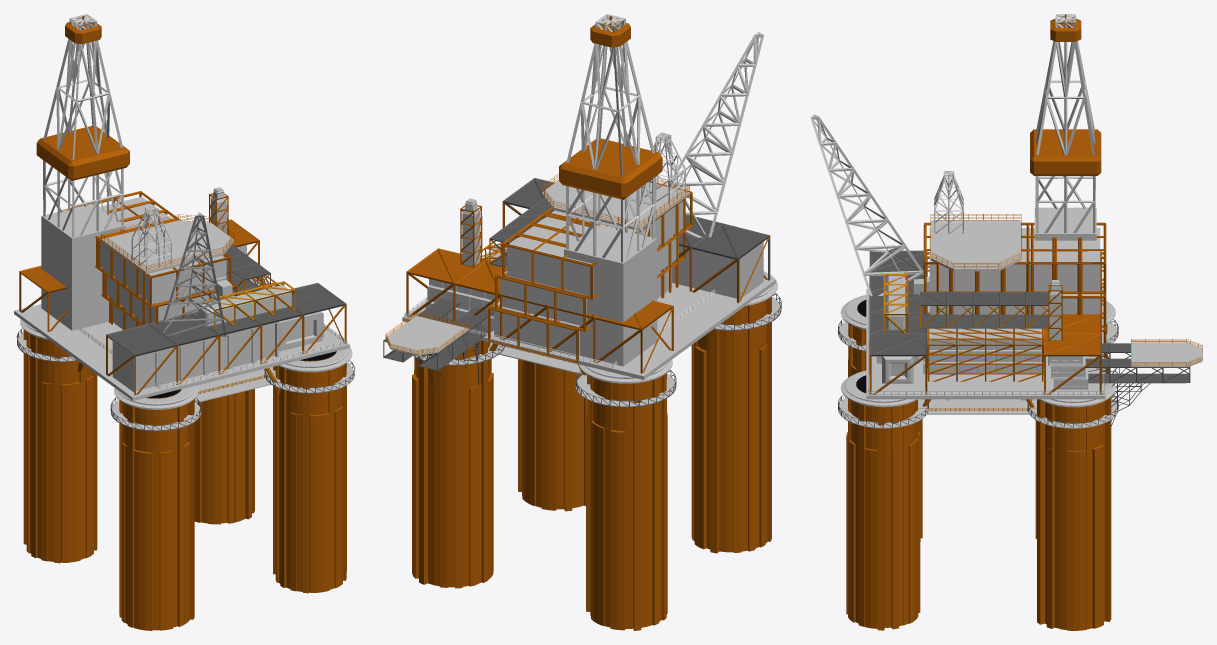
The model's file is mining.obj.
3 renders of one model, left to right at view 1: azimuth 30°, elevation 25°; view 2: azimuth 150°, elevation 25°; view 3: azimuth 270°, elevation 25°, orthographic. The views are drawn at different scales.
Parts seen in each view (by area): view 1: Object_42, Object_48, Object_45, Object_51, Object_102, Object_94, Object_100, Object_14, Object_114, Object_4, Object_112, Object_98 (+17 smaller); view 2: Object_45, Object_42, Object_51, Object_114, Object_48, Object_102, Object_100, Object_14, Object_16, Object_96, Object_54, Object_98 (+20 smaller); view 3: Object_51, Object_48, Object_114, Object_14, Object_100, Object_64, Object_112, Object_4, Object_54, Object_11, Object_96, Object_98 (+23 smaller).
Boxes of the visible parts, x1=… form: Object_42: x1=119, y1=390, x2=194, y2=630; Object_48: x1=273, y1=352, x2=346, y2=593; Object_45: x1=23, y1=329, x2=97, y2=563; Object_51: x1=194, y1=389, x2=254, y2=524; Object_102: x1=41, y1=203, x2=125, y2=330; Object_94: x1=112, y1=311, x2=323, y2=392; Object_100: x1=43, y1=14, x2=123, y2=237; Object_14: x1=14, y1=278, x2=349, y2=400; Object_114: x1=100, y1=196, x2=232, y2=329; Object_4: x1=106, y1=283, x2=345, y2=394; Object_112: x1=101, y1=220, x2=234, y2=274; Object_98: x1=36, y1=126, x2=129, y2=180; Object_45: x1=586, y1=373, x2=667, y2=630; Object_42: x1=691, y1=296, x2=771, y2=553; Object_51: x1=412, y1=340, x2=493, y2=588; Object_114: x1=494, y1=201, x2=683, y2=355; Object_48: x1=518, y1=359, x2=586, y2=511; Object_102: x1=564, y1=224, x2=657, y2=366; Object_100: x1=566, y1=14, x2=655, y2=262; Object_14: x1=402, y1=246, x2=775, y2=379; Object_16: x1=406, y1=248, x2=673, y2=373; Object_96: x1=488, y1=182, x2=692, y2=363; Object_54: x1=668, y1=32, x2=764, y2=237; Object_98: x1=559, y1=138, x2=662, y2=199; Object_51: x1=1037, y1=397, x2=1111, y2=630; Object_48: x1=846, y1=385, x2=920, y2=630; Object_114: x1=929, y1=228, x2=1100, y2=356; Object_14: x1=866, y1=289, x2=1105, y2=400; Object_100: x1=1035, y1=14, x2=1095, y2=233; Object_64: x1=923, y1=328, x2=1043, y2=373; Object_112: x1=931, y1=220, x2=1021, y2=271; Object_4: x1=869, y1=250, x2=927, y2=395; Object_54: x1=810, y1=114, x2=923, y2=296; Object_11: x1=920, y1=292, x2=1049, y2=328; Object_96: x1=923, y1=222, x2=1106, y2=358; Object_98: x1=1030, y1=129, x2=1101, y2=175.
Bounding box in the file's own units: 19.25 × 41.88 × 27.91.
